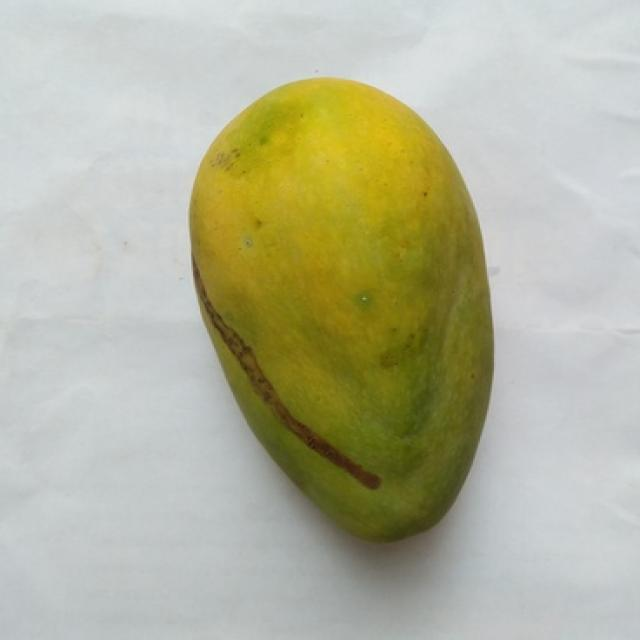Mango: (191, 80, 492, 540)
